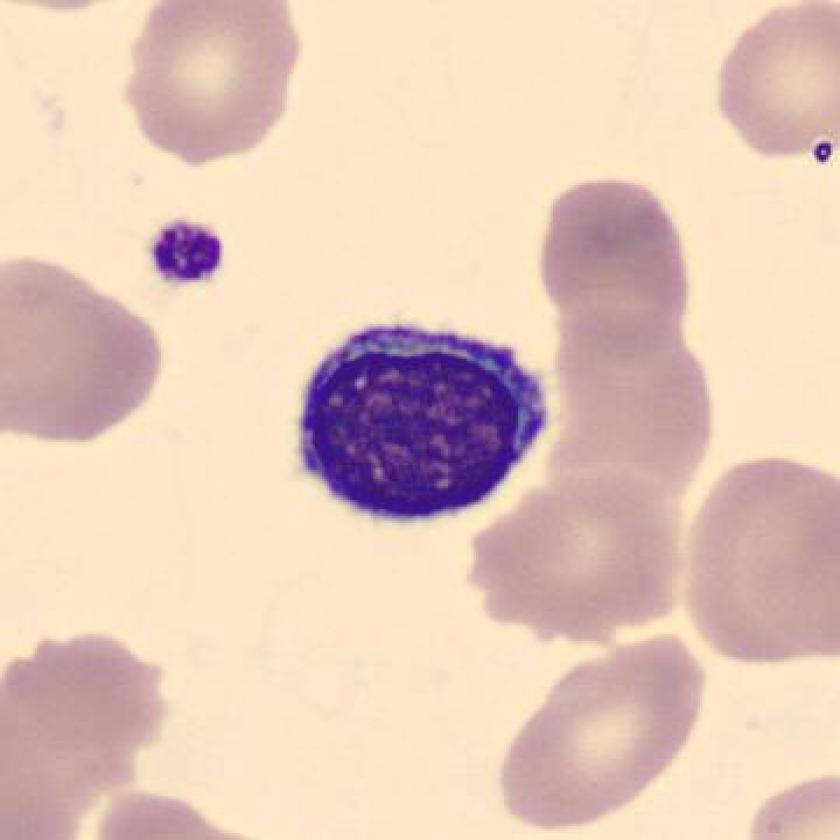lymphocyte: (272, 306, 568, 538)
